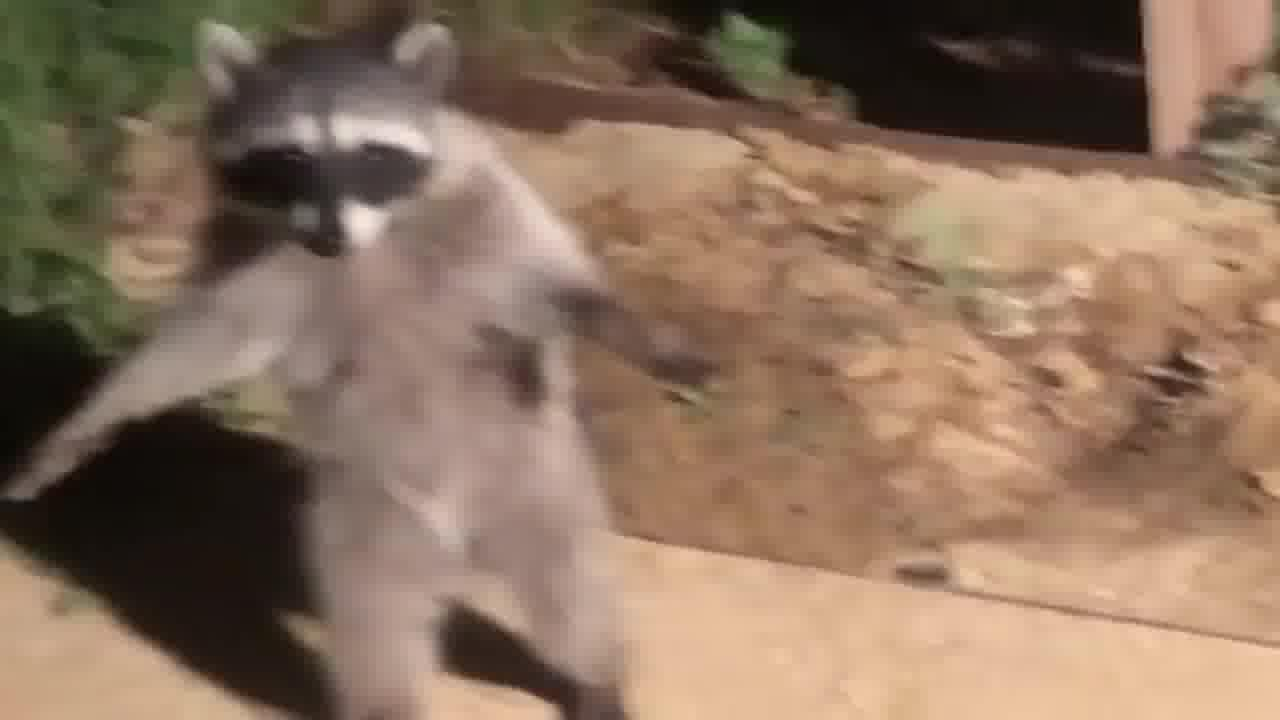raccoon: (0, 0, 731, 720)
